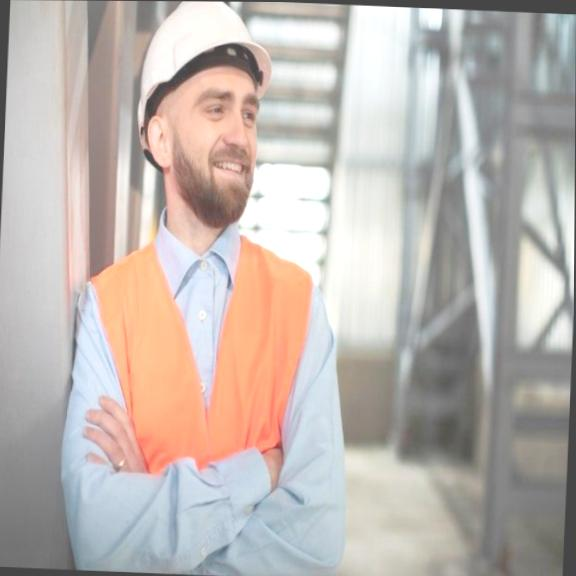no_safety_vest: (54, 214, 352, 576)
